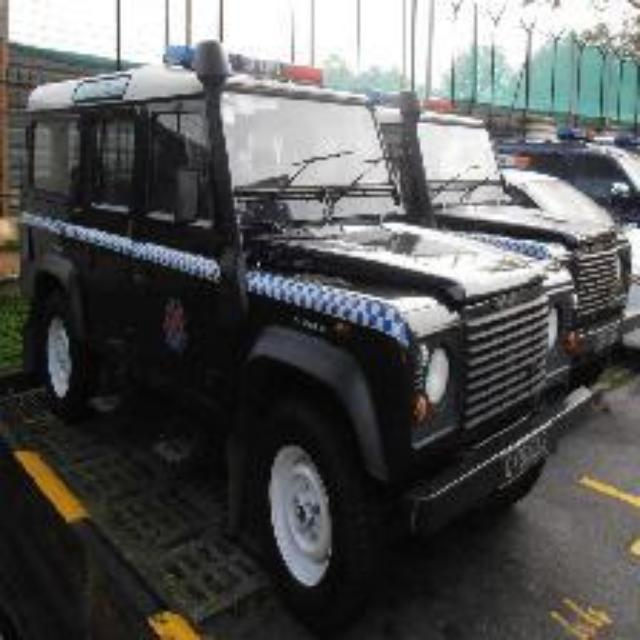emergency: (11, 51, 571, 576)
